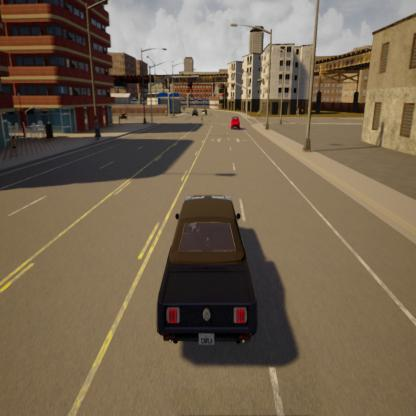Cars: (155, 167, 260, 356), (229, 113, 243, 133), (190, 106, 200, 121), (201, 106, 209, 121)
Pedestrian: (10, 133, 22, 163), (93, 114, 103, 146), (163, 106, 170, 124), (117, 112, 121, 126)
